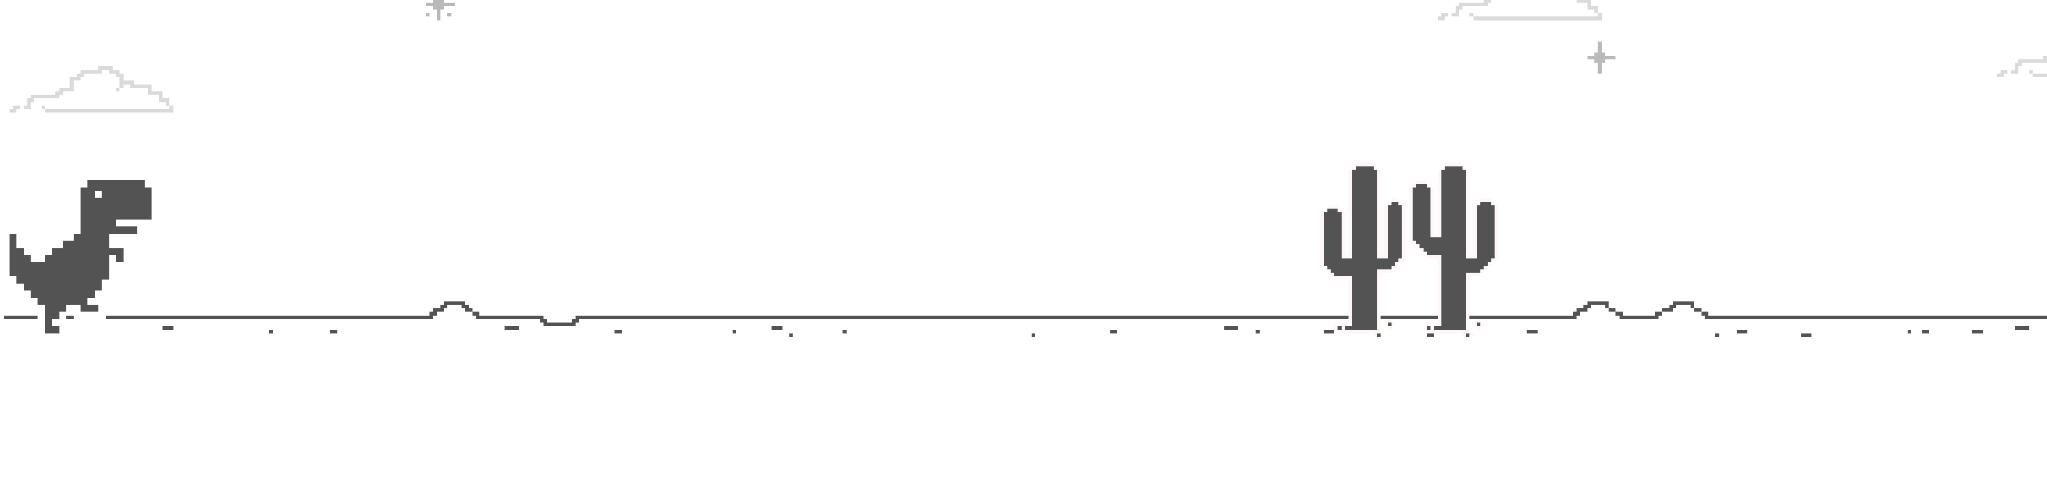6: (5, 172, 157, 337)
pterodactyl: (1319, 162, 1500, 343)
